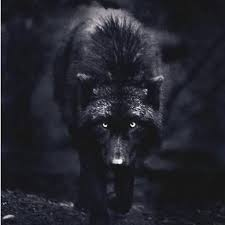Lobo: (1, 1, 225, 225)
